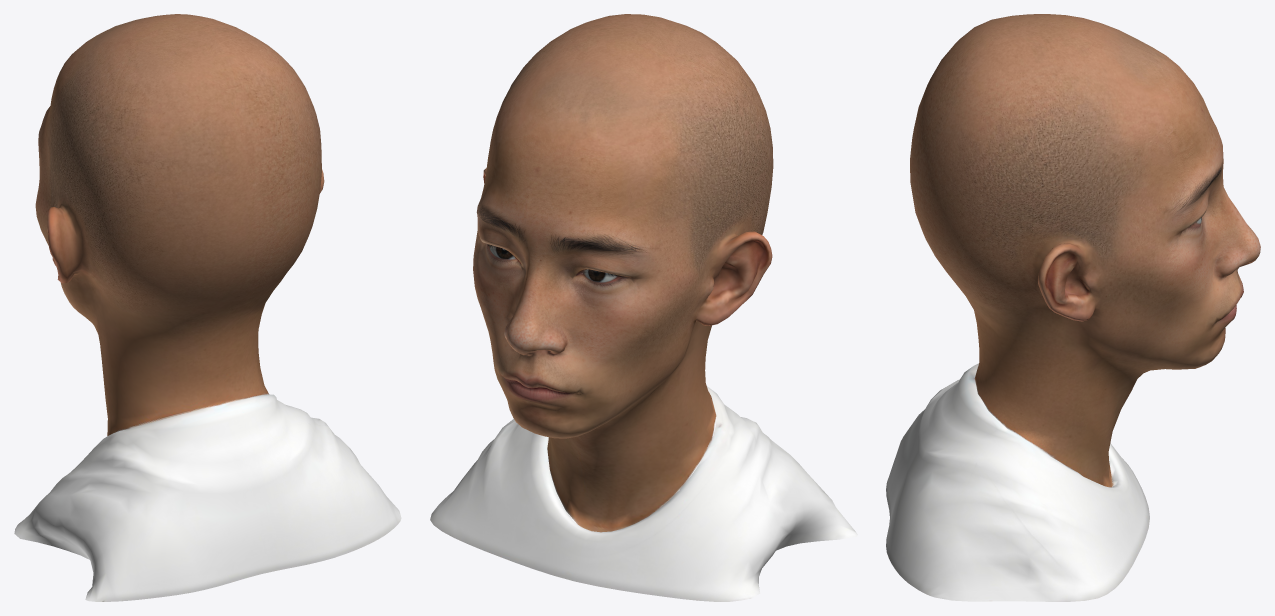
File: Model_HairHead_Yaowa.glb
3 views of the same model, side by side, from view 1: azimuth 30°, elevation 25°; view 2: azimuth 150°, elevation 25°; view 3: azimuth 270°, elevation 25° (orthographic). The views are drawn at different scales.
Visible parts, largest first — view 1: HairHead_Yaowa; view 2: HairHead_Yaowa; view 3: HairHead_Yaowa.
Boxes of the visible parts, x1=… form: HairHead_Yaowa: x1=14, y1=14, x2=401, y2=601; HairHead_Yaowa: x1=430, y1=14, x2=857, y2=601; HairHead_Yaowa: x1=886, y1=14, x2=1260, y2=601.
Size of the model in its own units: 0.2445 by 0.3454 by 0.2391.
Materials: 1 (1 with a texture image).
